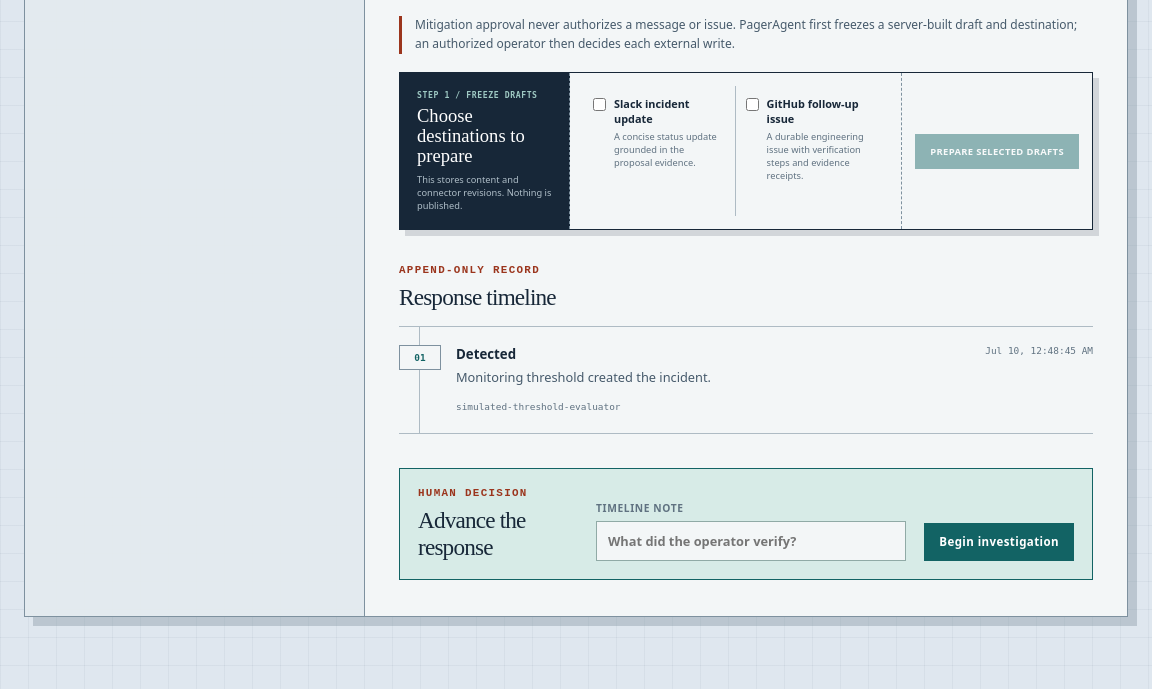
Test: closes live data and returns to the checkpoint on a 401
(page scrolled)
Click the button "Begin investigation".
click(999, 542)  # box [924,523,1074,561]
(page scrolled)
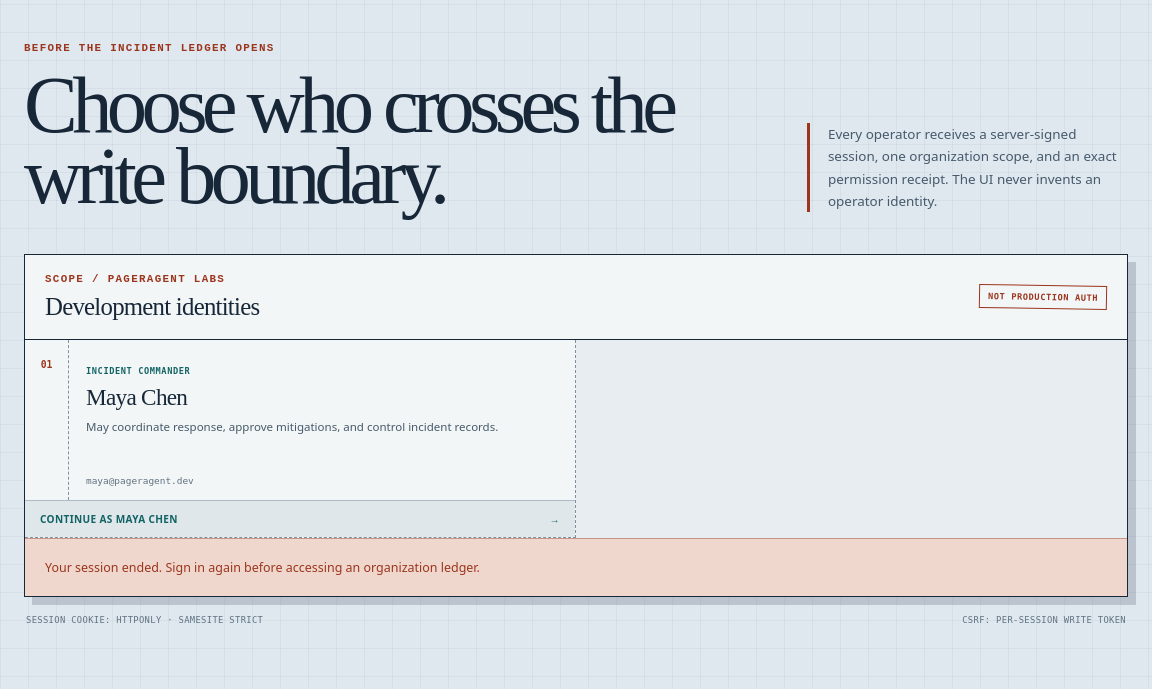
Expected: the heading "Choose who crosses the write boundary." is shown, [24,70,765,212]
Expected: the message shows "Your session ended", [45,559,480,576]
